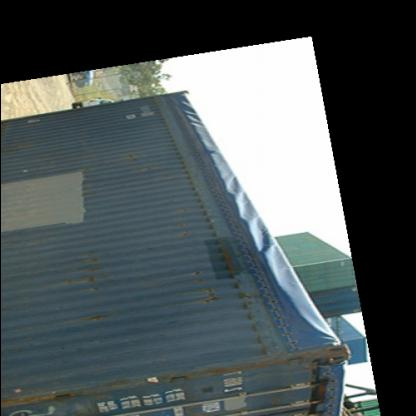Damage: (192, 266, 229, 310), (76, 255, 106, 296), (170, 206, 196, 245), (3, 130, 32, 159), (81, 310, 109, 331), (124, 150, 144, 170)
